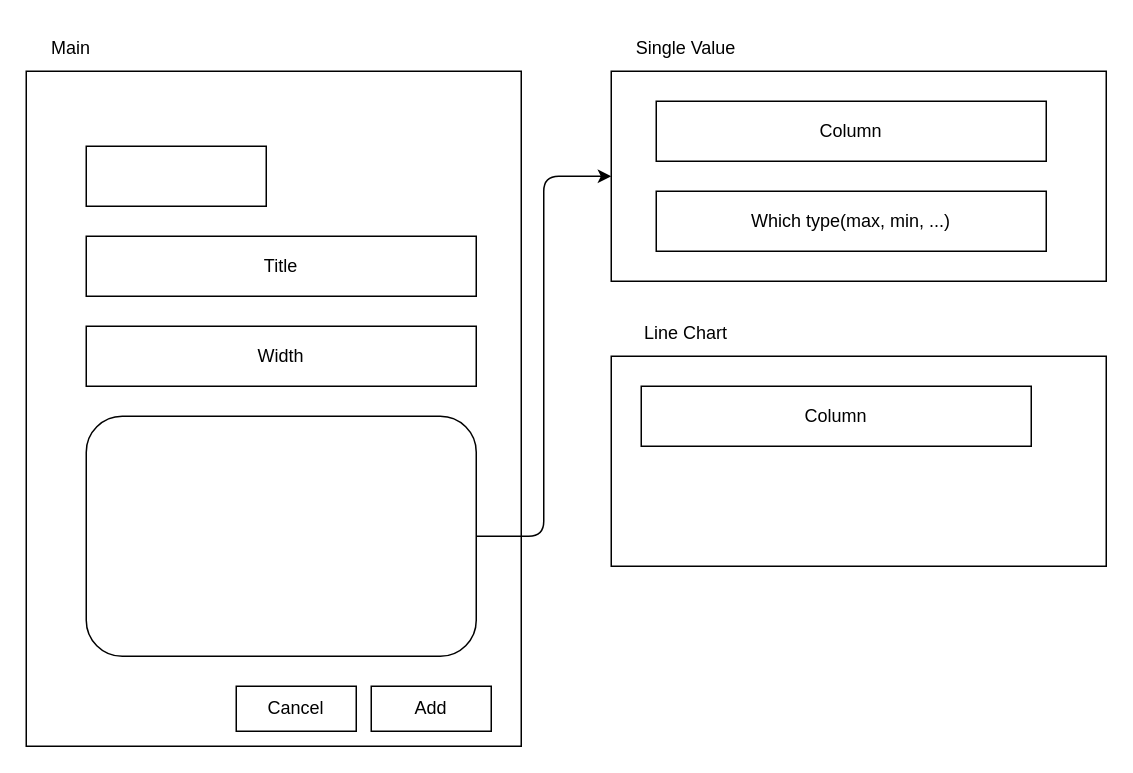
The diagram is 1133 pixels wide and 773 high, and some of its shapes have lost their labels. The shapes that lost their labels are listed below. From the top down, each one's box as (x1, y1, x2, y2) in pixels, then its label:
(85, 145, 266, 206): Type Chart
(85, 415, 476, 656): Options
